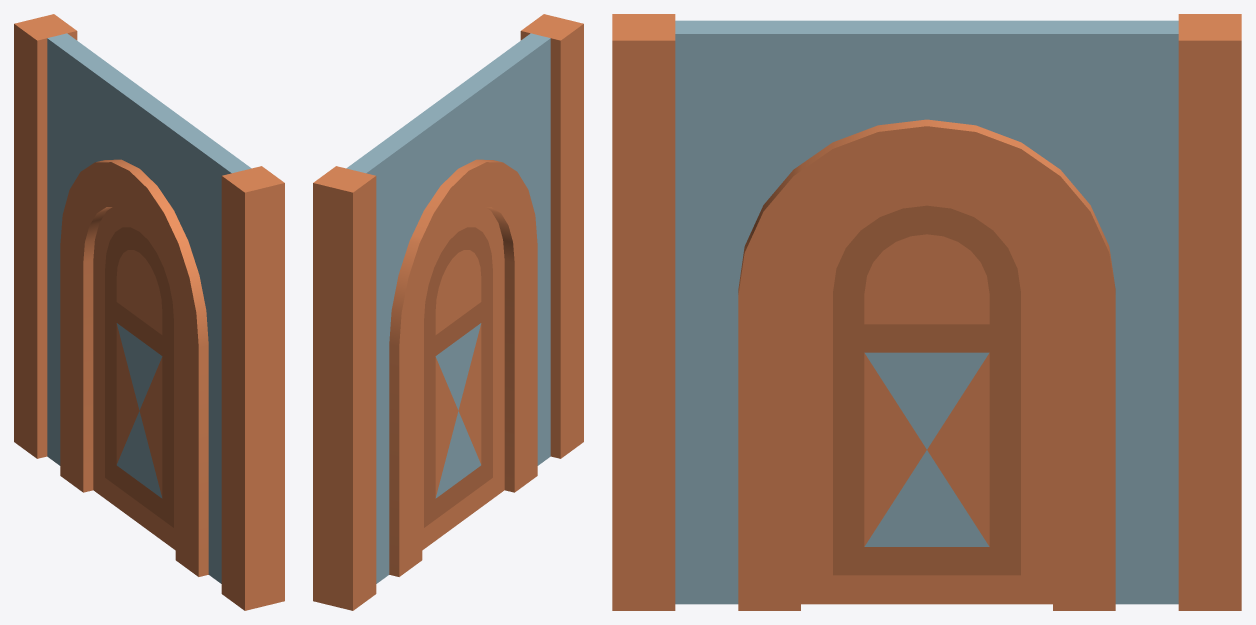
The model's file is wallDoor.fbx.
The picture shows the model from 3 angles, left to right: view 1: azimuth 30°, elevation 25°; view 2: azimuth 150°, elevation 25°; view 3: azimuth 270°, elevation 25°; orthographic projection. The views are drawn at different scales.
Parts seen in each view (by area): view 1: wallDoor, door; view 2: wallDoor, door; view 3: wallDoor, door.
Part boxes in pixels (<box>): wallDoor: <box>14,14,284,610</box>; door: <box>93,207,175,550</box>; wallDoor: <box>313,14,583,610</box>; door: <box>422,207,504,550</box>; wallDoor: <box>612,14,1241,610</box>; door: <box>801,183,1052,604</box>.
Size of the model in its own units: 1 by 10 by 10.
